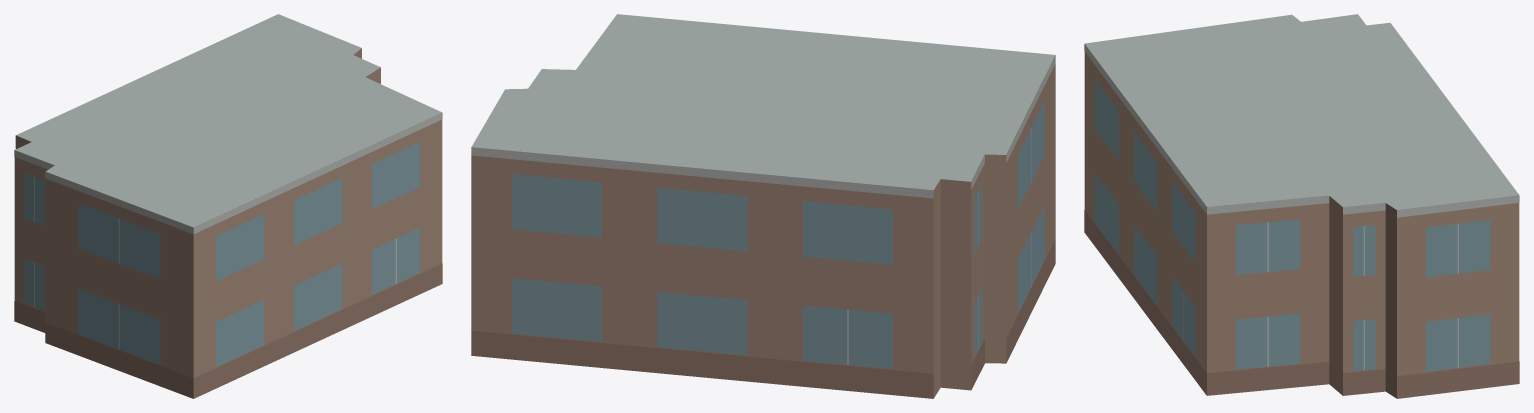
The model's file is survey-upis-32667187.glb.
3 views of the same model, side by side, from view 1: azimuth 30°, elevation 25°; view 2: azimuth 150°, elevation 25°; view 3: azimuth 270°, elevation 25° (orthographic). The views are drawn at different scales.
Visible parts, largest first — view 1: survey-upis-32667187.tmp; view 2: survey-upis-32667187.tmp; view 3: survey-upis-32667187.tmp.
Boxes of the visible parts, x1,y1,x2,y2 form: survey-upis-32667187.tmp: (14, 14, 442, 398); survey-upis-32667187.tmp: (471, 14, 1055, 398); survey-upis-32667187.tmp: (1084, 14, 1519, 398).
Bounding box in the file's own units: 13.61 × 6.1 × 12.76.
